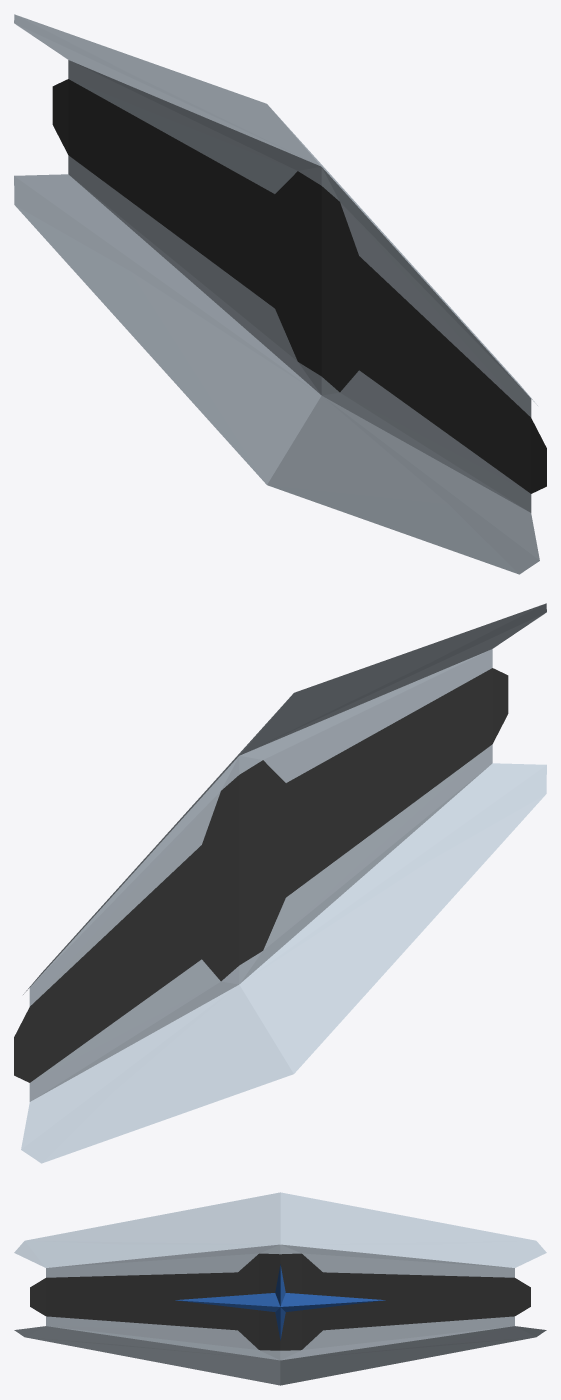
Rendered from weapon.FBX.
3 renders of one model, top to bottom at view 1: azimuth 30°, elevation 25°; view 2: azimuth 150°, elevation 25°; view 3: azimuth 270°, elevation 25°, orthographic. The views are drawn at different scales.
Parts seen in each view (by area): view 1: VIFS001, VIFS002; view 2: VIFS001, VIFS002; view 3: VIFS001, VIFS002, VIFS003.
Part boxes in pixels (left/top/right/bottom): VIFS001: left=14, top=14, right=539, bottom=574; VIFS002: left=52, top=79, right=546, bottom=493; VIFS001: left=21, top=603, right=546, bottom=1163; VIFS002: left=14, top=668, right=508, bottom=1082; VIFS001: left=14, top=1192, right=546, bottom=1385; VIFS002: left=30, top=1253, right=530, bottom=1350; VIFS003: left=175, top=1264, right=385, bottom=1340.
Bounding box in the file's own units: 0.16 × 0.8 × 2.
